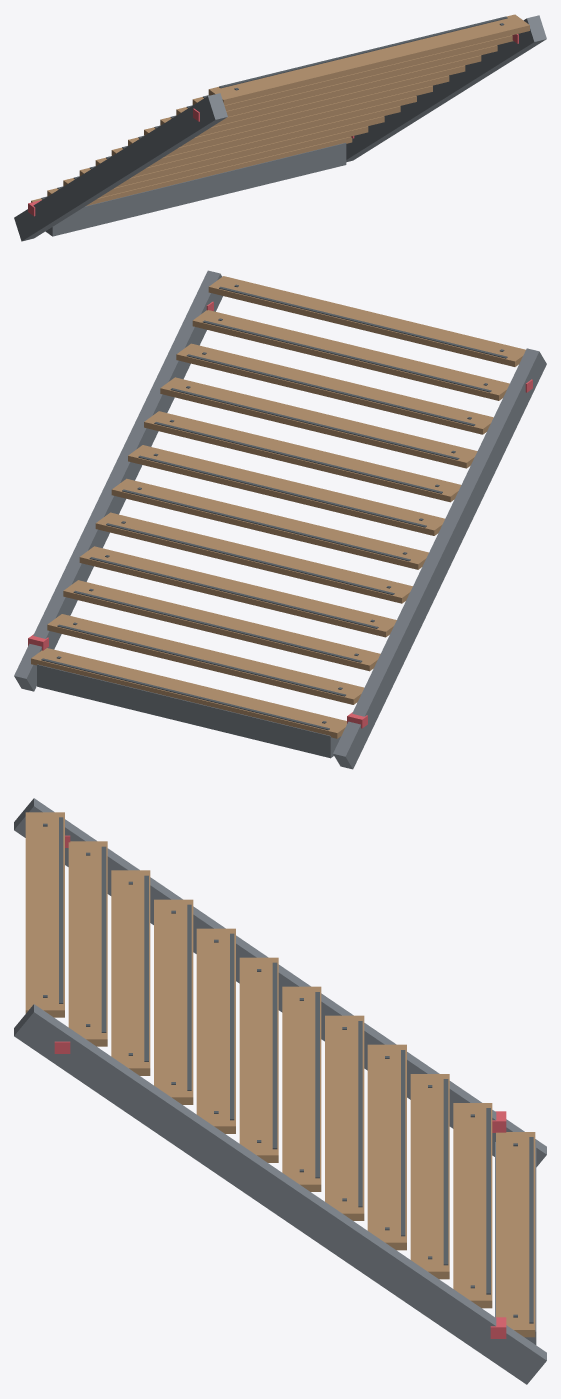
Rendered from BuildRamp.glb.
3 renders of one model, top to bottom at view 1: azimuth 30°, elevation 25°; view 2: azimuth 150°, elevation 25°; view 3: azimuth 270°, elevation 25°, orthographic. The views are drawn at different scales.
Visible parts, largest first — view 1: side_rail-1.9, step_riser_0, wood_tread_11, side_rail1.9, wood_tread_10, wood_tread_9, wood_tread_2, wood_tread_6, wood_tread_8, wood_tread_7, wood_tread_4, wood_tread_3 (+4 smaller); view 2: side_rail-1.9, side_rail1.9, step_riser_0, wood_tread_4, wood_tread_9, wood_tread_5, wood_tread_10, wood_tread_3, wood_tread_1, wood_tread_7, wood_tread_11, wood_tread_6 (+15 smaller); view 3: side_rail1.9, wood_tread_4, wood_tread_8, wood_tread_0, wood_tread_11, wood_tread_3, wood_tread_5, wood_tread_9, wood_tread_6, wood_tread_7, wood_tread_10, wood_tread_1 (+14 smaller).
Boxes of the visible parts, <box> form: side_rail-1.9: <box>14,93,227,241</box>; step_riser_0: <box>45,143,346,236</box>; wood_tread_11: <box>208,14,529,105</box>; side_rail1.9: <box>346,15,546,162</box>; wood_tread_10: <box>192,35,513,110</box>; wood_tread_9: <box>176,45,497,116</box>; wood_tread_2: <box>63,116,384,187</box>; wood_tread_6: <box>128,75,449,147</box>; wood_tread_8: <box>160,55,481,126</box>; wood_tread_7: <box>144,65,465,136</box>; wood_tread_4: <box>95,96,416,167</box>; wood_tread_3: <box>79,106,400,177</box>; side_rail-1.9: <box>333,348,546,769</box>; side_rail1.9: <box>14,270,222,691</box>; step_riser_0: <box>37,664,340,758</box>; wood_tread_4: <box>95,512,412,603</box>; wood_tread_9: <box>176,343,493,434</box>; wood_tread_5: <box>111,478,428,569</box>; wood_tread_10: <box>192,310,509,400</box>; wood_tread_3: <box>79,546,396,637</box>; wood_tread_1: <box>47,614,364,704</box>; wood_tread_7: <box>144,411,461,502</box>; wood_tread_11: <box>208,276,525,366</box>; wood_tread_6: <box>128,445,444,535</box>; side_rail1.9: <box>14,1004,546,1384</box>; wood_tread_4: <box>325,1015,364,1220</box>; wood_tread_8: <box>154,899,193,1104</box>; wood_tread_0: <box>496,1132,535,1337</box>; wood_tread_11: <box>25,812,64,1017</box>; wood_tread_3: <box>367,1044,406,1250</box>; wood_tread_5: <box>282,986,321,1191</box>; wood_tread_9: <box>111,870,150,1075</box>; wood_tread_6: <box>239,957,278,1162</box>; wood_tread_7: <box>196,928,235,1133</box>; wood_tread_10: <box>68,841,107,1046</box>; wood_tread_1: <box>453,1103,492,1308</box>.
Size of the model in its own units: 3.98 by 3.21 by 4.16.
